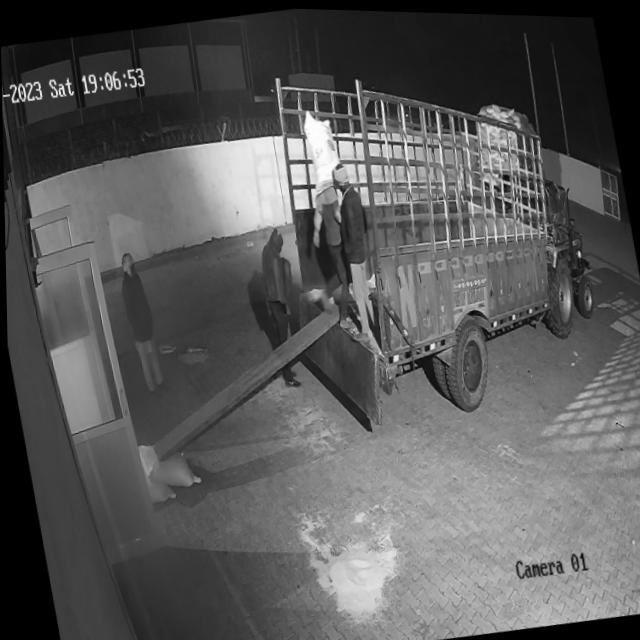sack: (300, 106, 343, 191), (136, 435, 199, 492)
